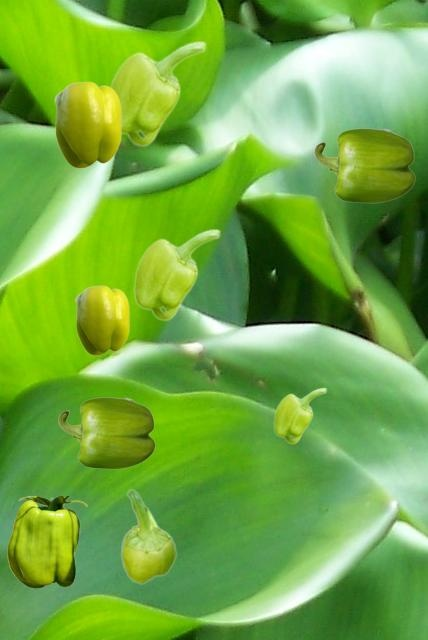bell_pepper: (108, 40, 206, 146), (133, 228, 220, 320), (314, 128, 414, 202), (7, 496, 86, 587), (58, 397, 154, 468), (54, 81, 120, 167), (120, 489, 176, 583), (75, 285, 128, 354), (273, 387, 326, 443)
